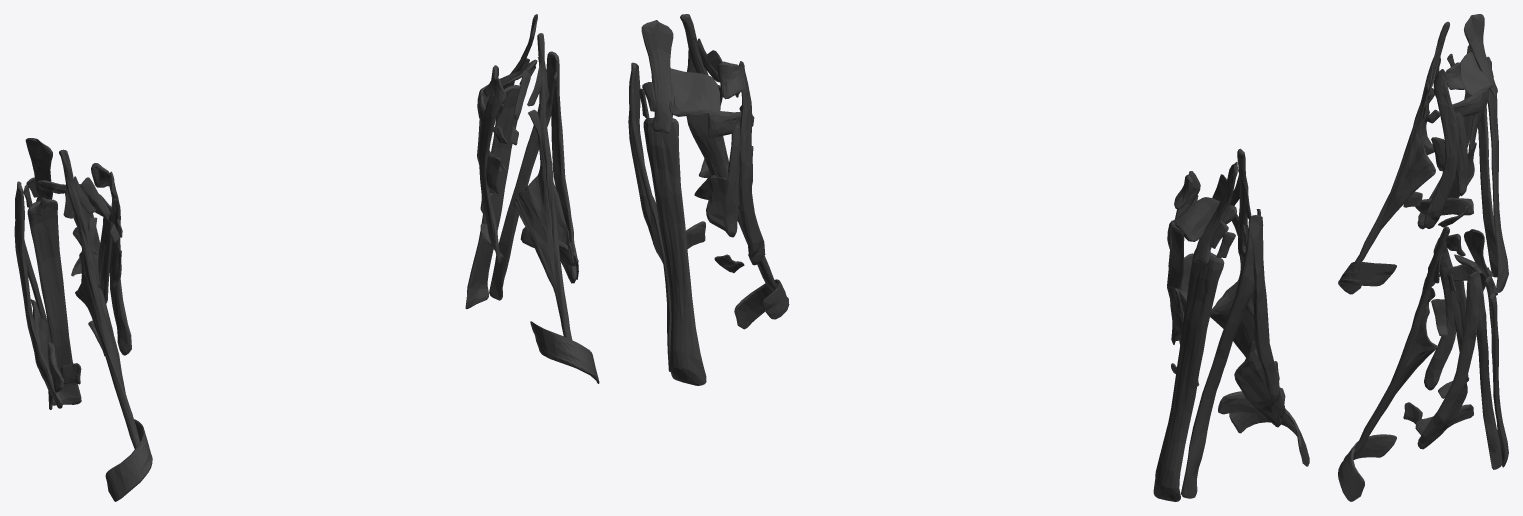
Rendered from details_HL_tarsus.glb.
The picture shows the model from 3 angles, left to right: view 1: azimuth 30°, elevation 25°; view 2: azimuth 150°, elevation 25°; view 3: azimuth 270°, elevation 25°; orthographic projection. The views are drawn at different scales.
Visible parts, largest first — view 1: details_HL_tarsus; view 2: details_HL_tarsus; view 3: details_HL_tarsus.
Boxes of the visible parts, x1,y1,x2,y2 form: details_HL_tarsus: (14, 14, 599, 501); details_HL_tarsus: (628, 14, 1309, 501); details_HL_tarsus: (1338, 14, 1508, 501).
Bounding box in the file's own units: 0.0552 × 0.0306 × 0.0171.
Materials: 1 (1 with a texture image).
